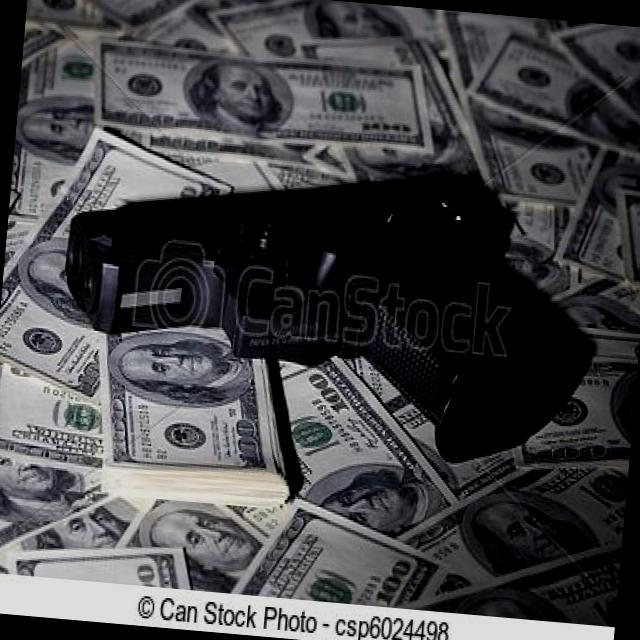handgun: (48, 134, 601, 473)
